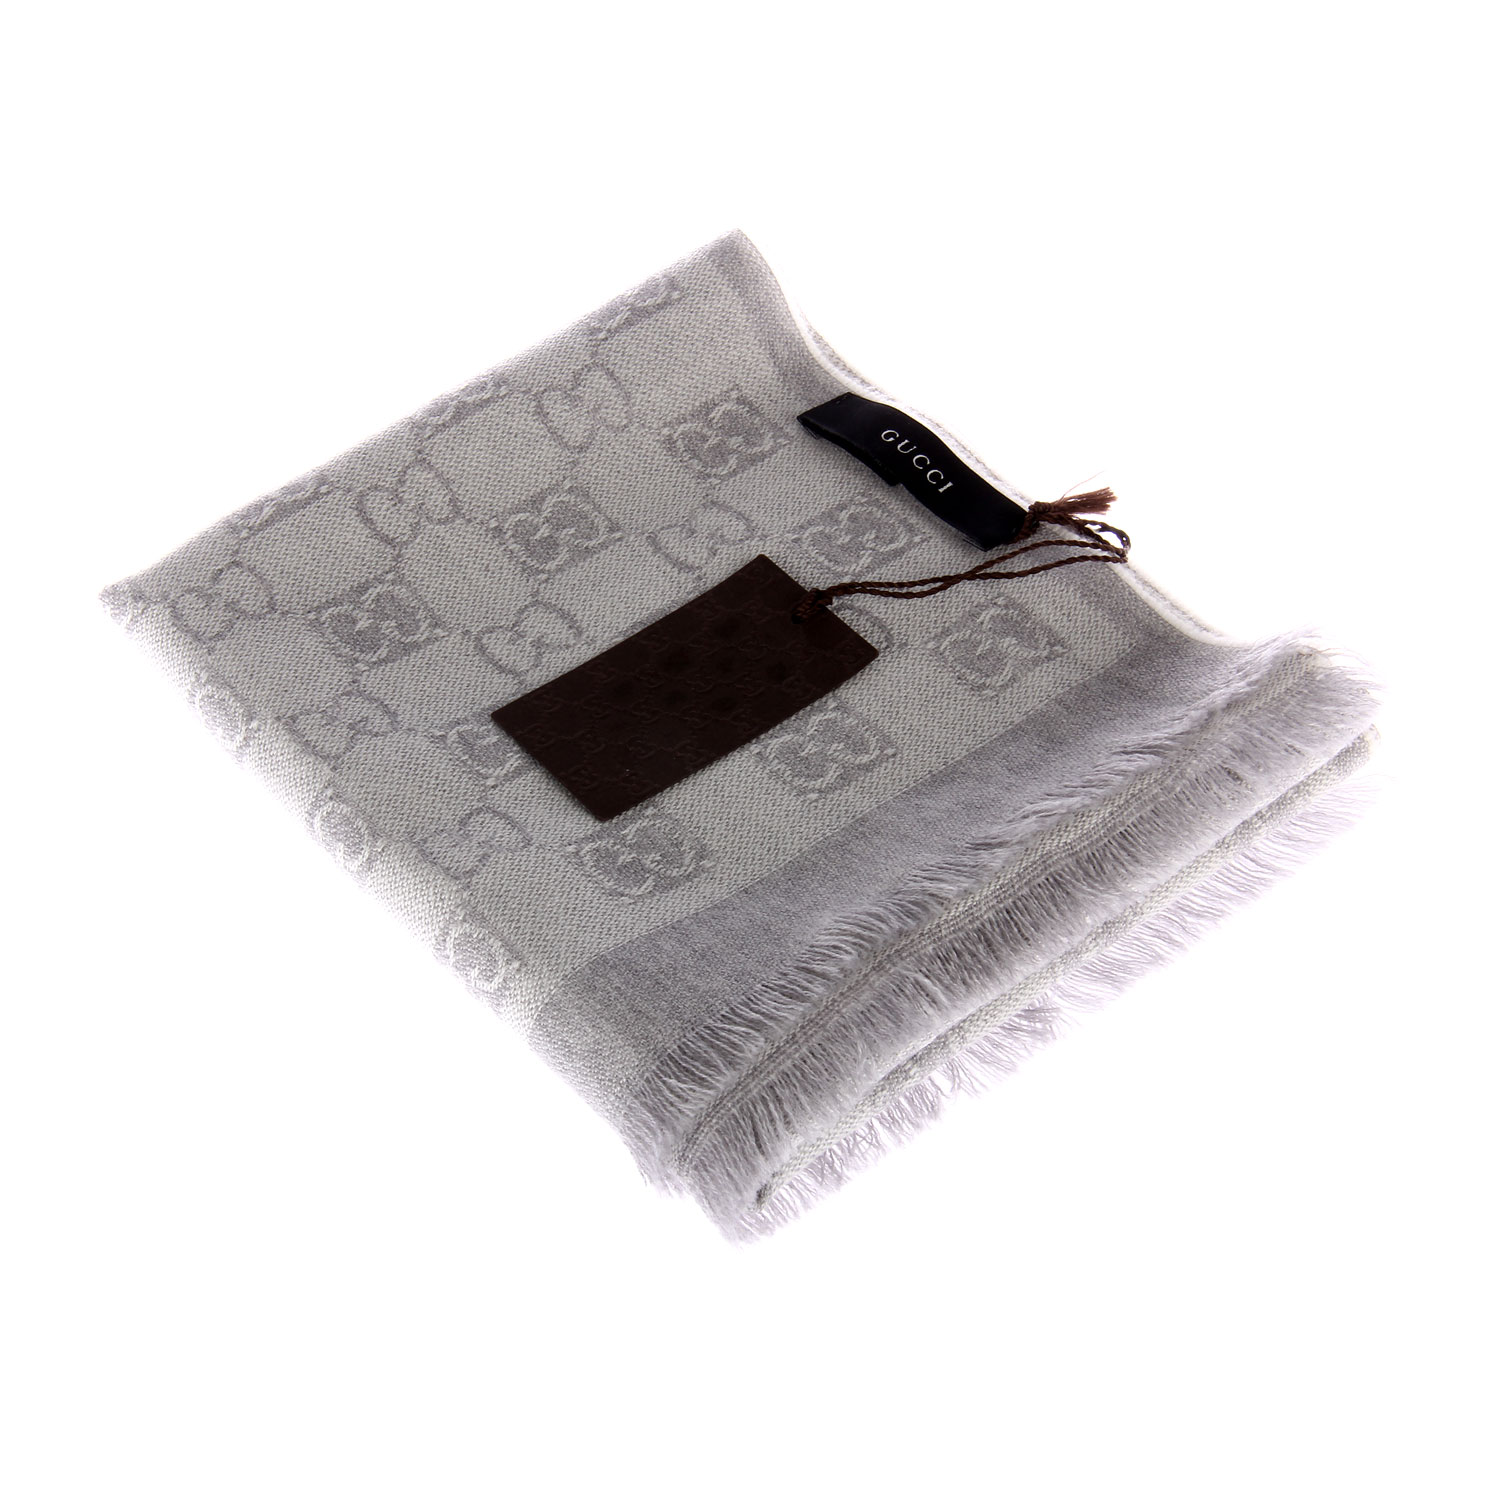flexible: (107, 238, 1390, 1240)
